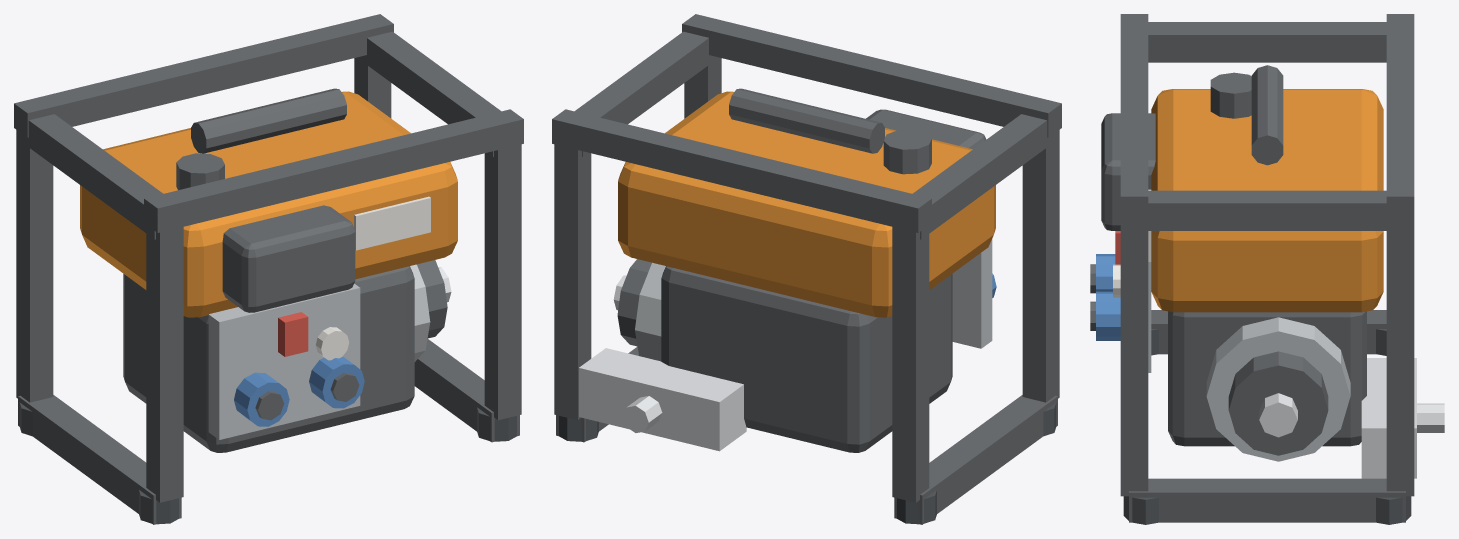
The model's file is tool-hire-depot-and-plant-yard-tool-hire-depot-and-pla-4f4551bc__35315.glb.
3 views of the same model, side by side, from view 1: azimuth 30°, elevation 25°; view 2: azimuth 150°, elevation 25°; view 3: azimuth 270°, elevation 25° (orthographic). The views are drawn at different scales.
Parts seen in each view (by area): view 1: tool-hire-depot-and-plant-yard-portable-generator; view 2: tool-hire-depot-and-plant-yard-portable-generator; view 3: tool-hire-depot-and-plant-yard-portable-generator.
Boxes of the visible parts, box(x1,y1,x2,y2) form: tool-hire-depot-and-plant-yard-portable-generator: box(14, 14, 523, 524); tool-hire-depot-and-plant-yard-portable-generator: box(552, 14, 1061, 524); tool-hire-depot-and-plant-yard-portable-generator: box(1090, 14, 1444, 524).
Size of the model in its own units: 0.8 by 0.66 by 0.64.
